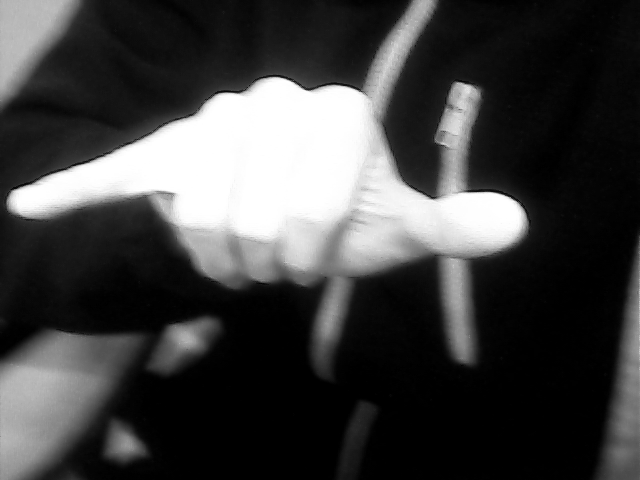aloha: (6, 72, 529, 294)
